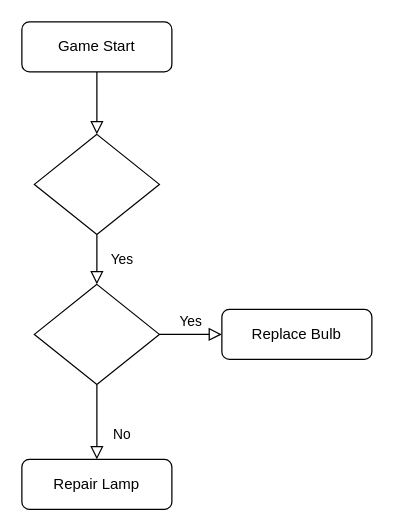
This 394x531 diagram has some shape labels left out. Here are the shapes that lost their labels. From the top down, the centre of each, then its label:
At [96,183]: "Press Play".
At [96,333]: "Select Mode".
